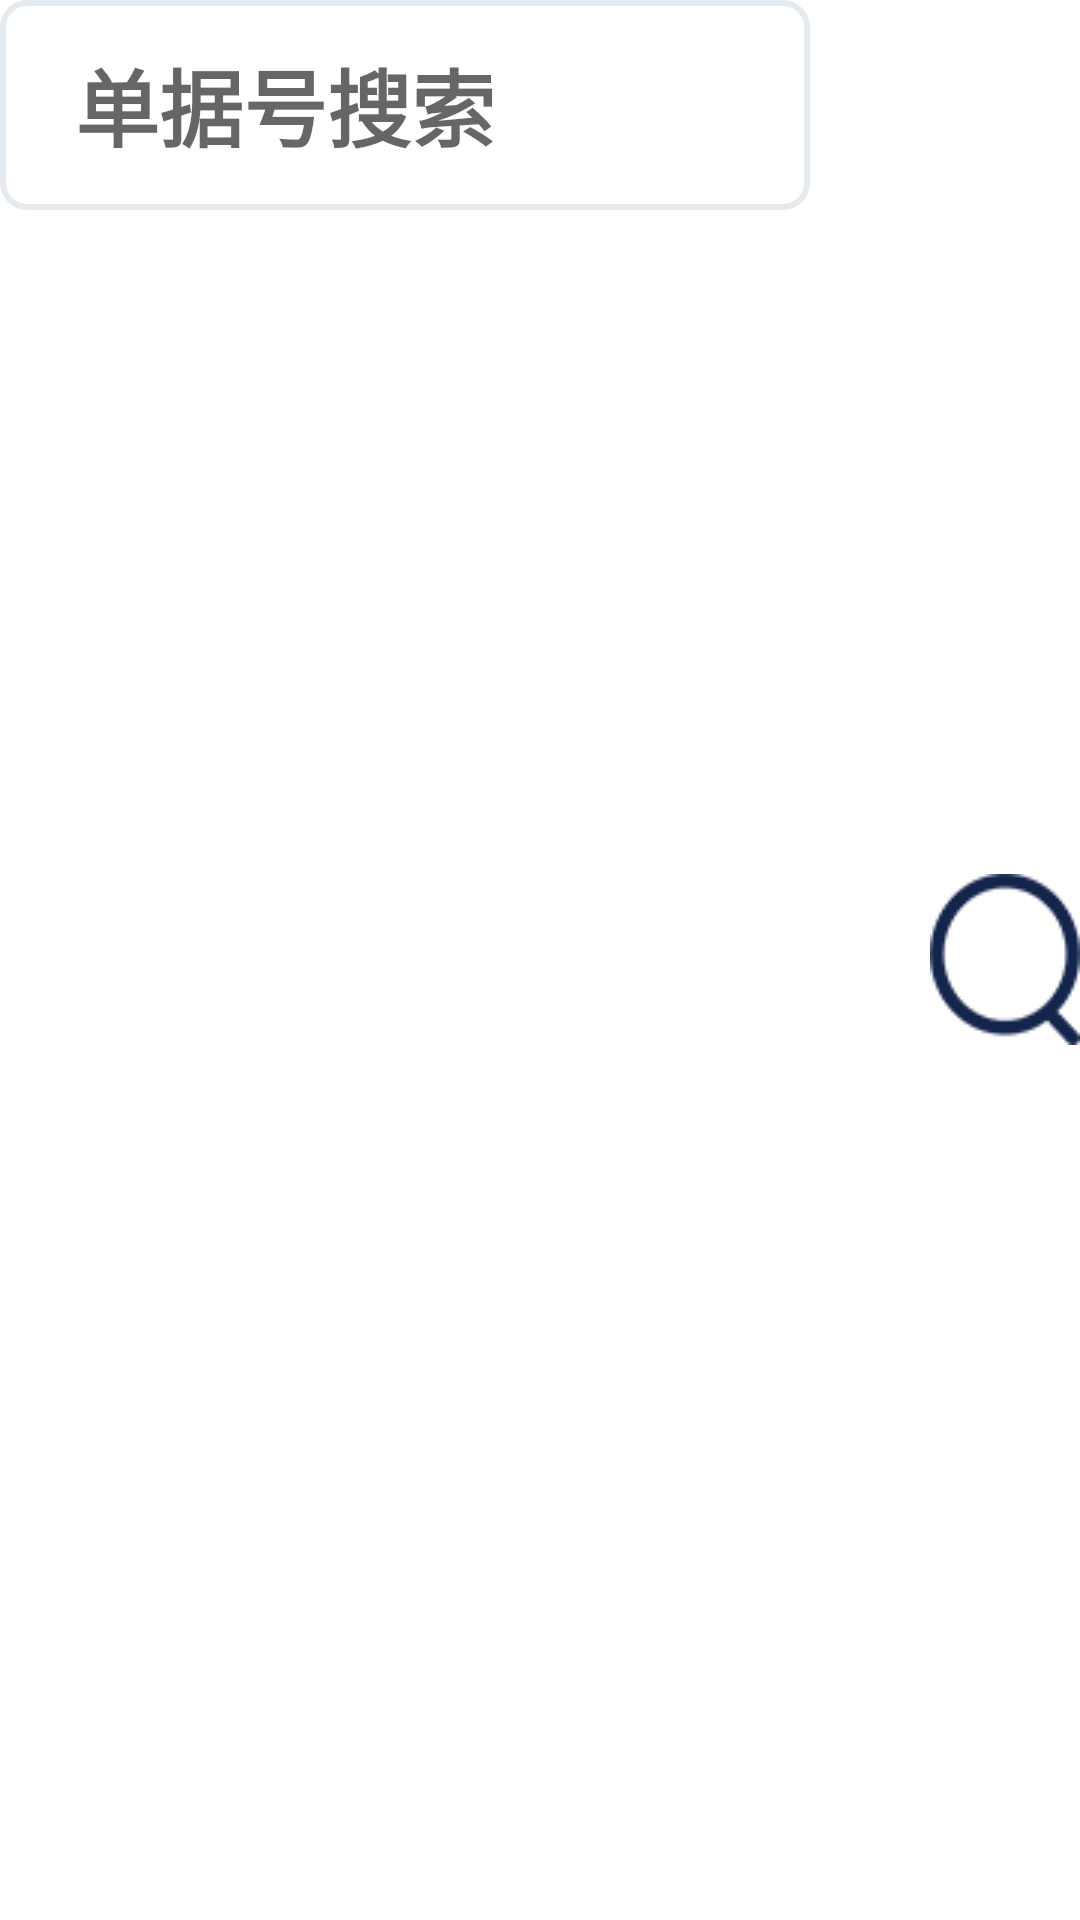

Locate icon controls on the screen. Image size 1080x1920, boxes as (x1, y1, x2, y2).
search: (930, 874, 1080, 1045)
